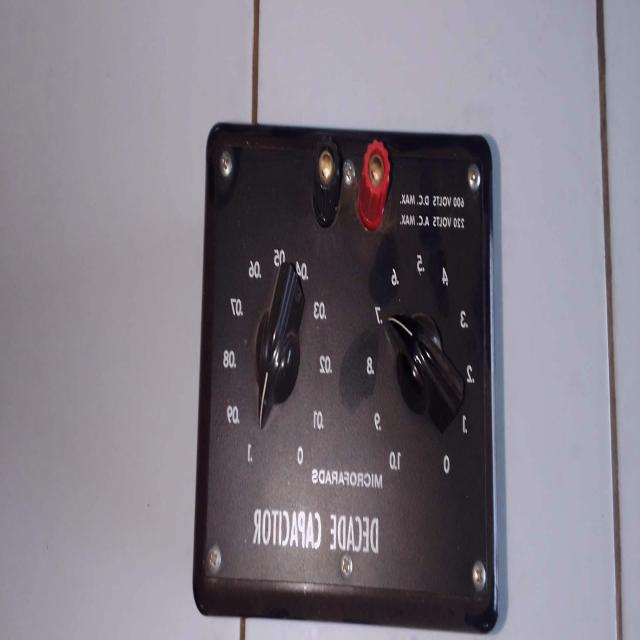Decade Capacitance Box: (186, 118, 504, 627)
